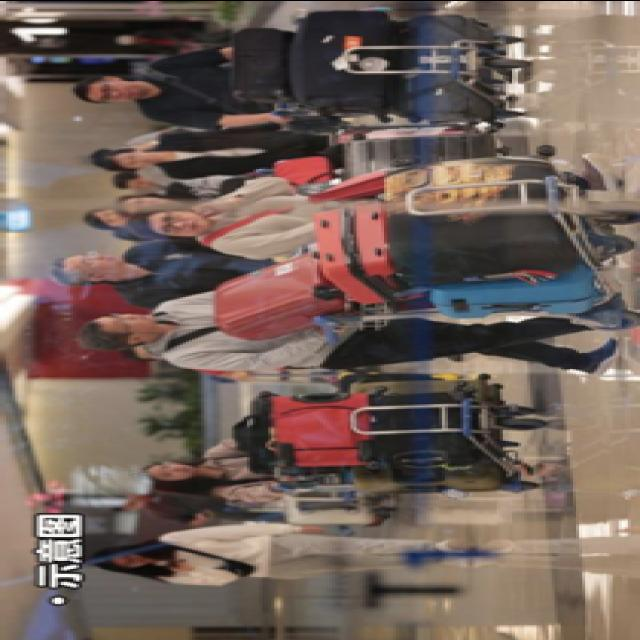no_mask: (152, 210, 208, 238), (70, 252, 122, 274), (91, 81, 138, 102), (100, 314, 152, 332), (149, 462, 189, 480), (125, 197, 165, 214), (116, 552, 150, 568), (119, 152, 149, 170), (94, 211, 124, 227), (125, 176, 155, 190)
